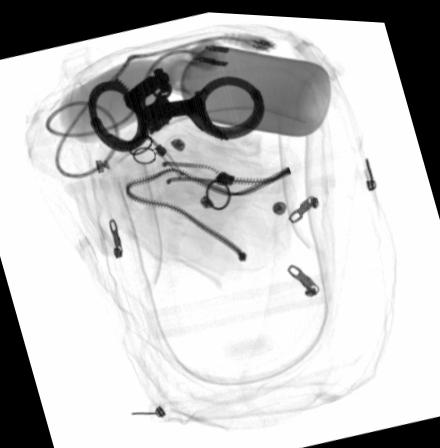HandCuffs: (86, 63, 268, 147)
